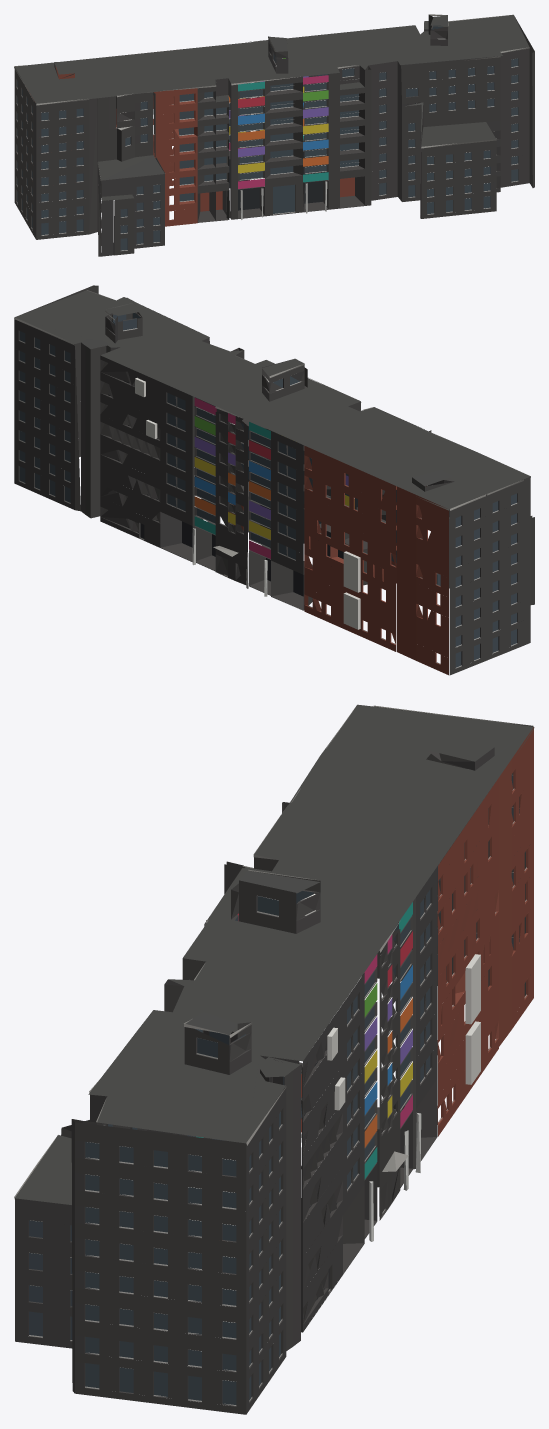
The model's file is sumatrakade-1101.lod1.glb.
3 views of the same model, one above another, from view 1: azimuth 30°, elevation 25°; view 2: azimuth 150°, elevation 25°; view 3: azimuth 270°, elevation 25° (orthographic). The views are drawn at different scales.
Parts seen in each view (by area): view 1: sumatrakade-1101; view 2: sumatrakade-1101; view 3: sumatrakade-1101.
Part boxes in pixels (left/top/right/bottom): sumatrakade-1101: left=14, top=14, right=534, bottom=256; sumatrakade-1101: left=14, top=285, right=534, bottom=675; sumatrakade-1101: left=14, top=704, right=534, bottom=1414.
Bounding box in the file's own units: 82.53 × 27.45 × 41.4.
